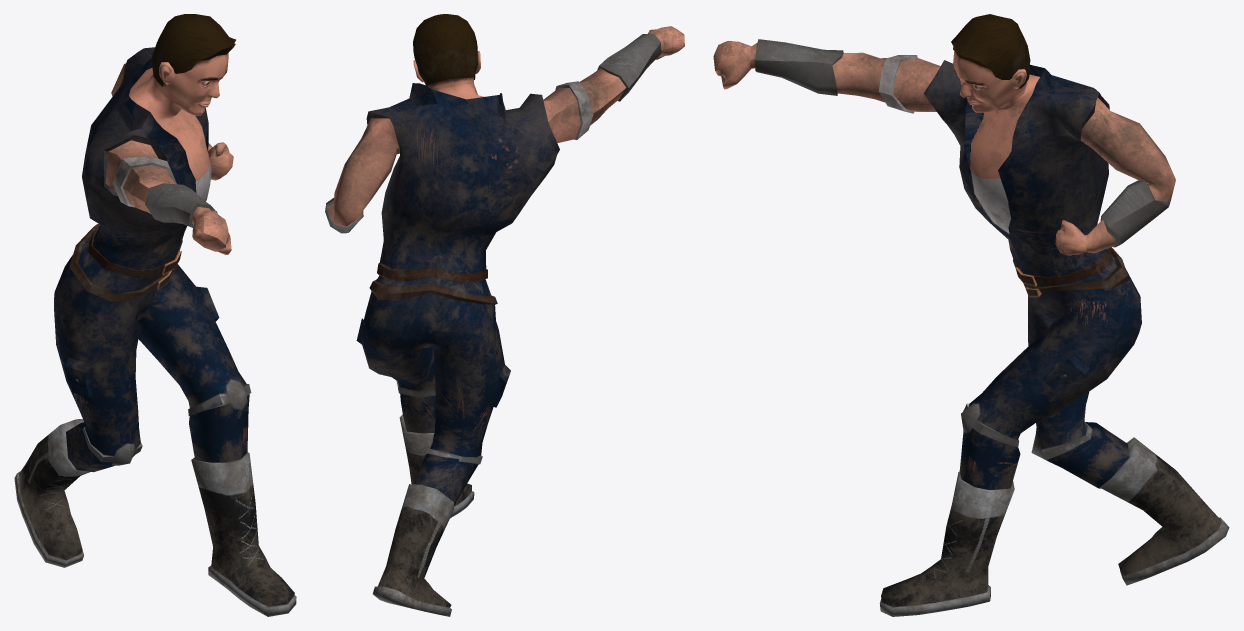
Rendered from Anim_ataque_d1_jugador.0021.obj.
3 renders of one model, left to right at view 1: azimuth 30°, elevation 25°; view 2: azimuth 150°, elevation 25°; view 3: azimuth 270°, elevation 25°, orthographic. The views are drawn at different scales.
Parts seen in each view (by area): view 1: polySurface1; view 2: polySurface1; view 3: polySurface1.
Boxes of the visible parts, x1,y1,x2,y2 form: polySurface1: (14,14,296,616); polySurface1: (325,14,684,616); polySurface1: (713,14,1229,616).
Bounding box in the file's own units: 3.31 × 8.9 × 7.05.
